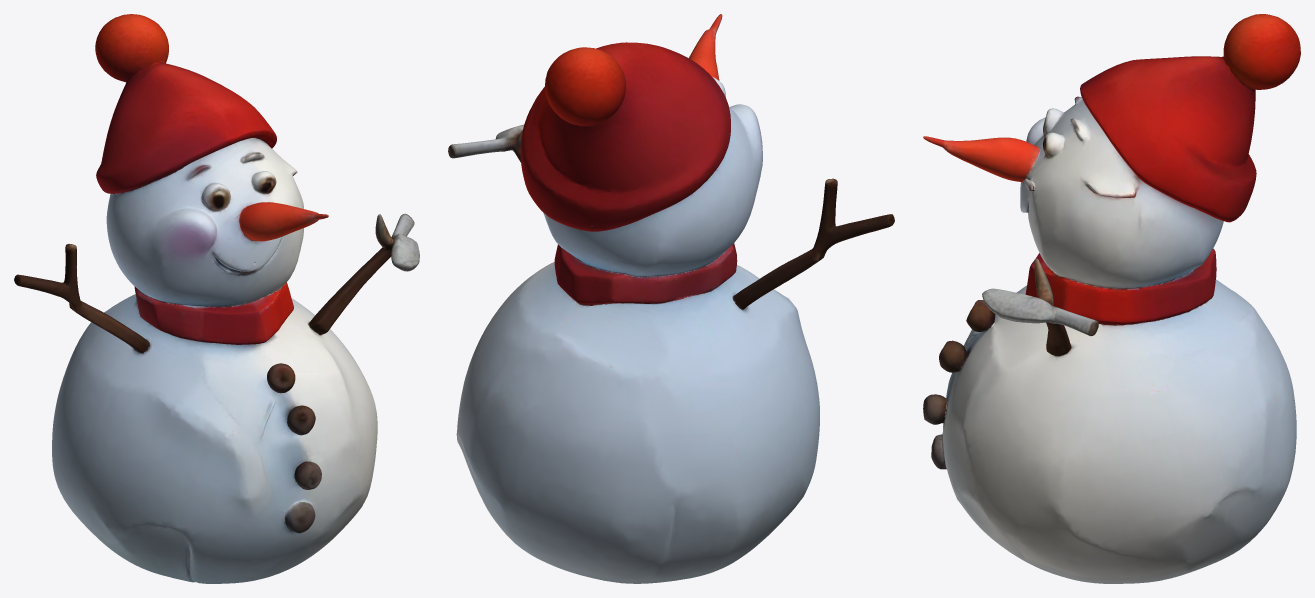
File: snowman.glb
The picture shows the model from 3 angles, left to right: view 1: azimuth 30°, elevation 25°; view 2: azimuth 150°, elevation 25°; view 3: azimuth 270°, elevation 25°; orthographic projection. The views are drawn at different scales.
Parts seen in each view (by area): view 1: geometry_0; view 2: geometry_0; view 3: geometry_0.
Part boxes in pixels (box(x1,y1,x2,y2)): geometry_0: box(14, 14, 419, 583); geometry_0: box(448, 14, 894, 583); geometry_0: box(923, 14, 1300, 583).
Size of the model in its own units: 1.02 by 1.2 by 0.7838.
1 material, 1 textured.
